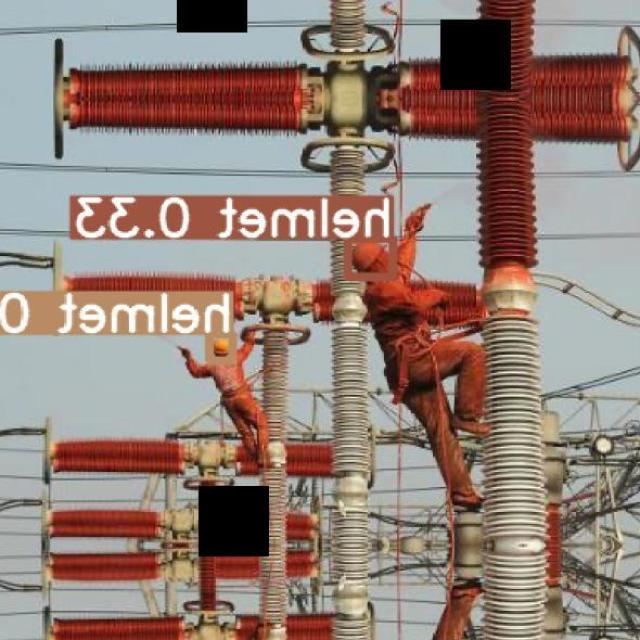helmet: (341, 232, 398, 286), (205, 330, 237, 369)
